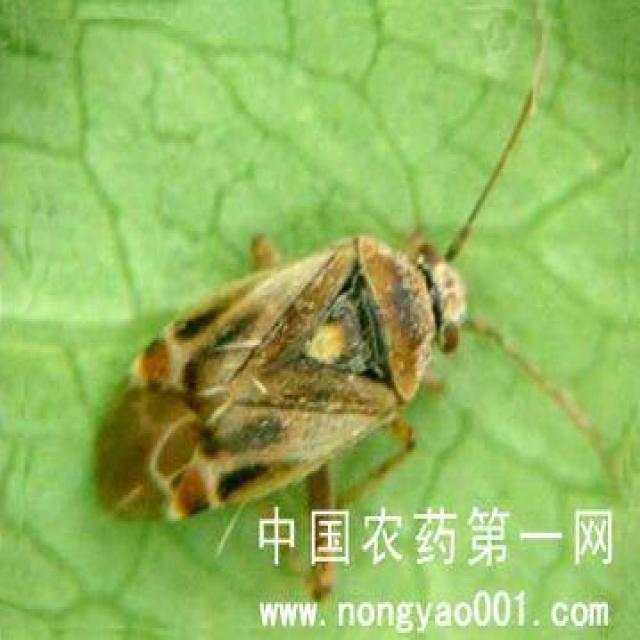Miridae-Adult-: (100, 85, 566, 544)
